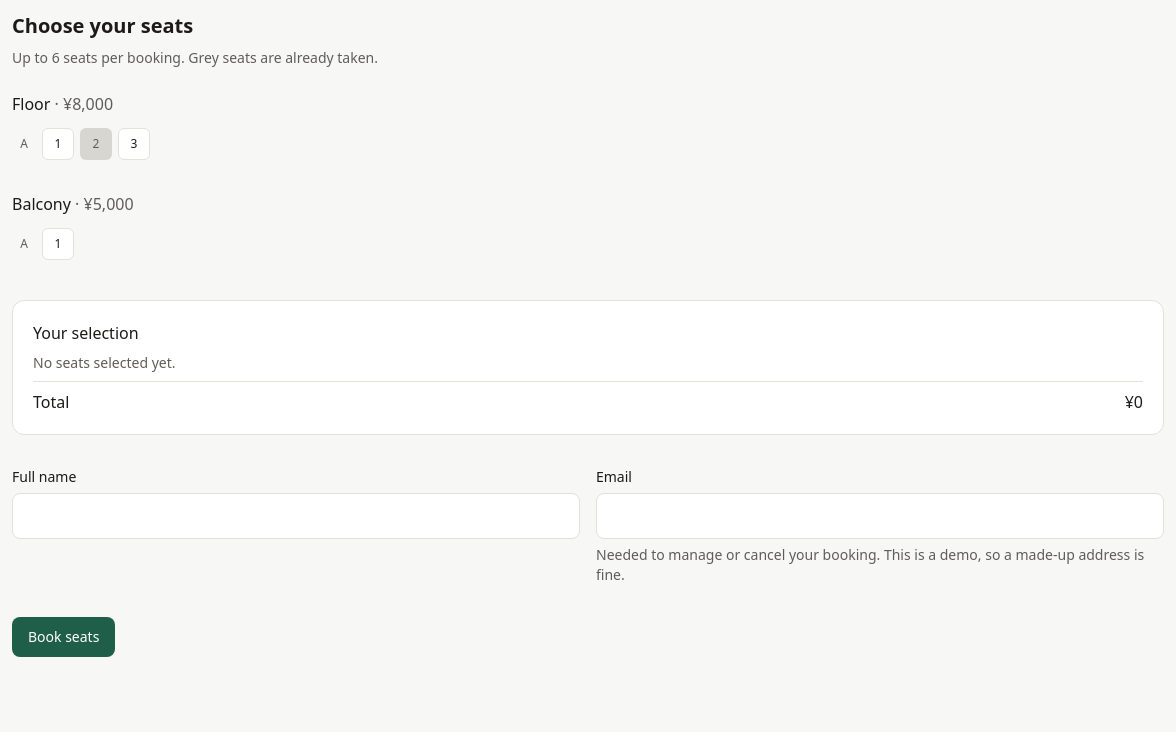
Test: BookingForm › marks seats lost to another customer and keeps the entered values
Click the checkbox named "Floor, row A, seat 1". click: click(58, 144)
box: top-left (42, 128), bottom-right (74, 160)
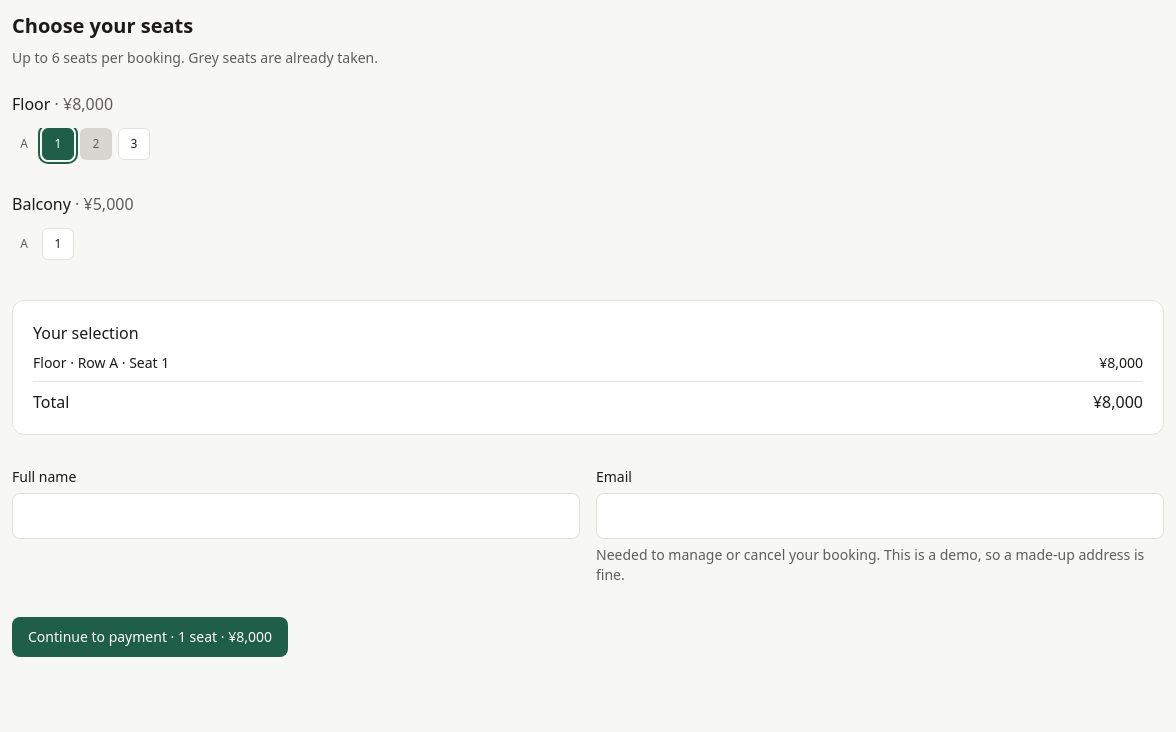
Click the checkbox named "Floor, row A, seat 3". click: click(134, 144)
box: top-left (118, 128), bottom-right (150, 160)
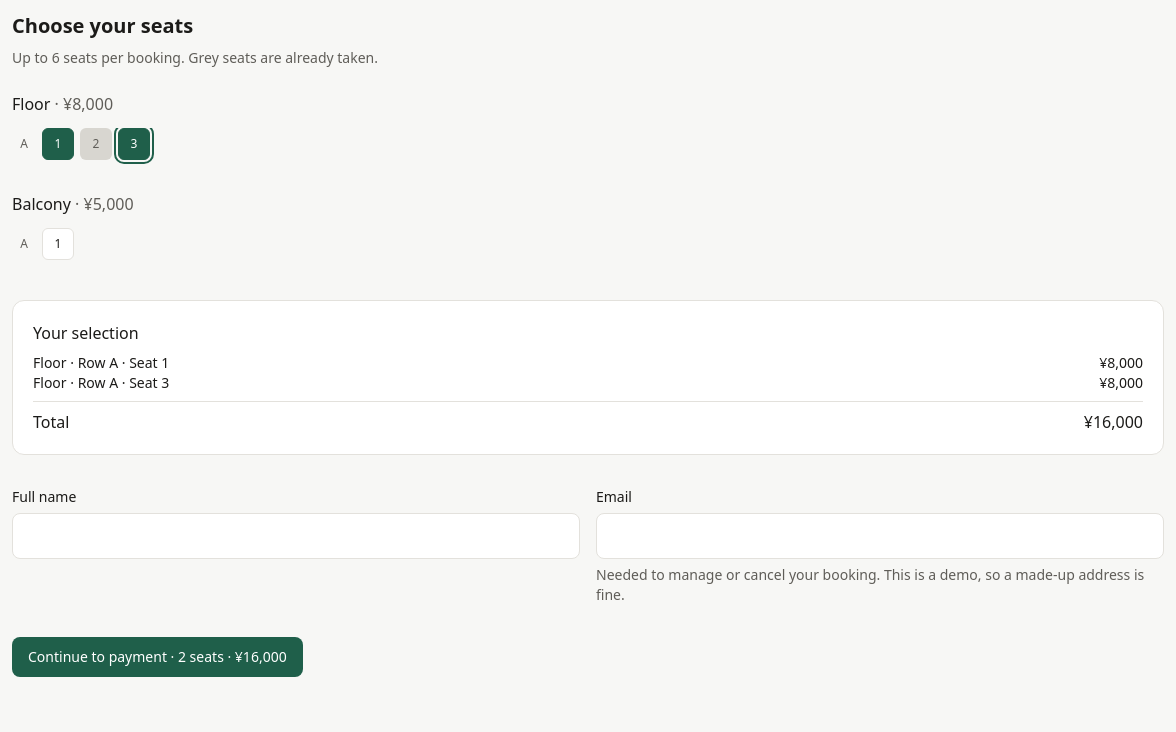
Type "Aiko Tanaka" into the field labelled "Full name". click: (296, 536)
box: top-left (12, 513), bottom-right (580, 559)
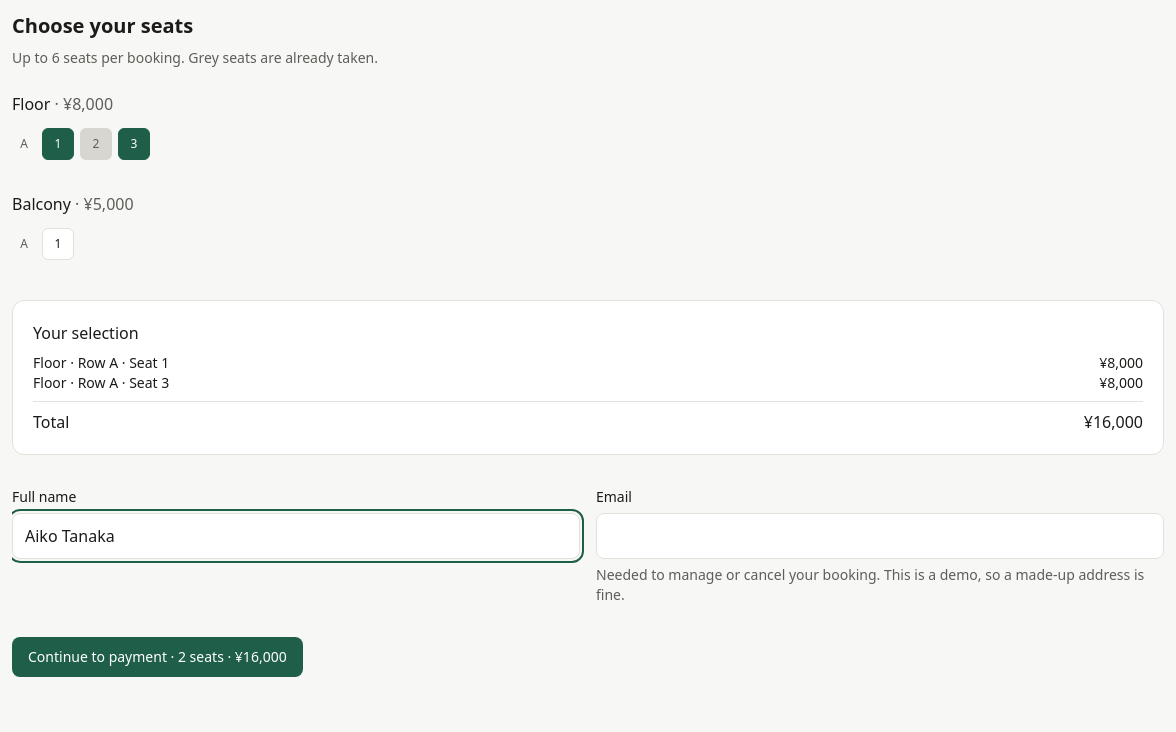
Type "aiko@example.com" into the field labelled "Email". click: (880, 536)
box: top-left (596, 513), bottom-right (1164, 559)
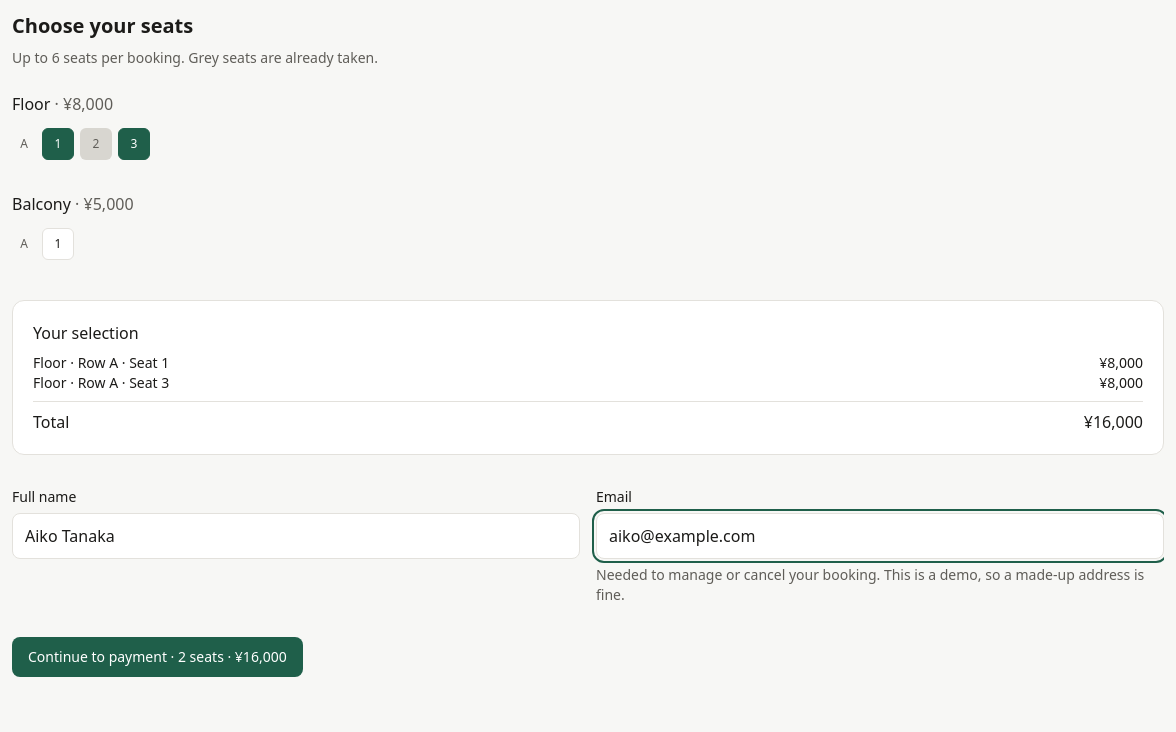
Click the button "Continue to payment · 2 seats · ¥16,000". click: click(157, 657)
box: top-left (12, 637), bottom-right (303, 677)
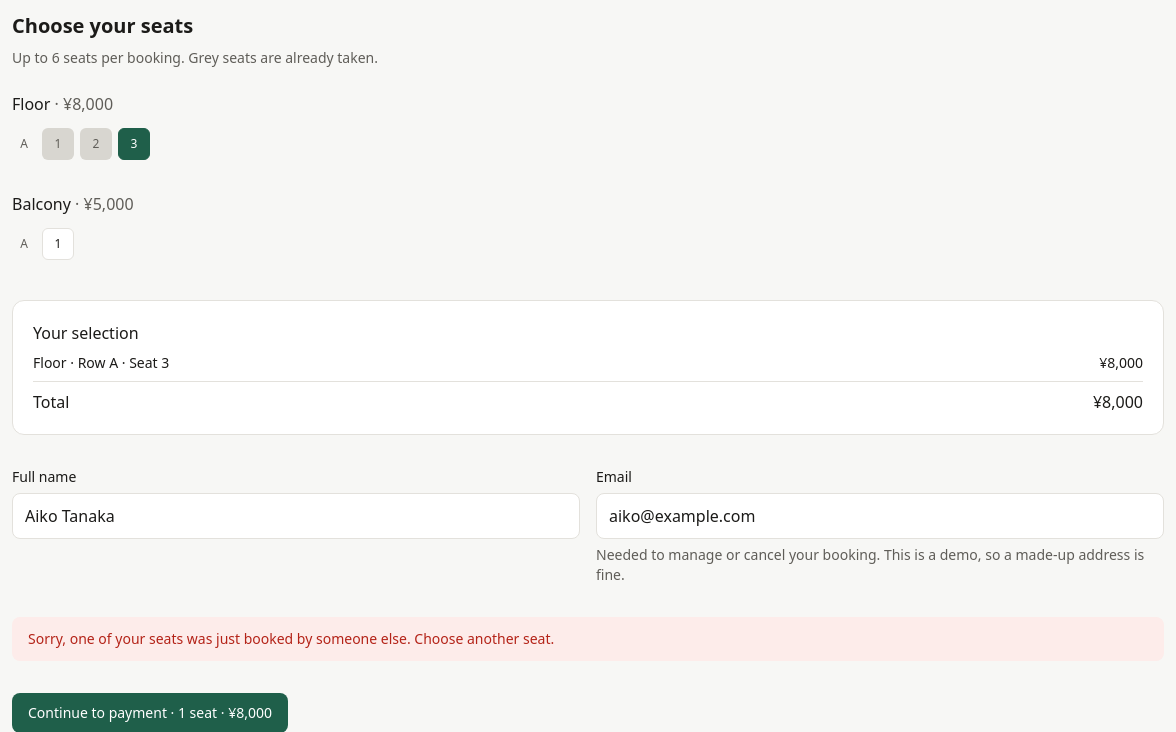
Now the message shows "just booked by someone else", box top-left (28, 629), bottom-right (554, 648)
Now the checkbox named "Floor, row A, seat 1, taken" is disabled, box top-left (42, 128), bottom-right (74, 160)
Now the text with test id "booking-total" reads "¥8,000", box top-left (1093, 391), bottom-right (1143, 413)
